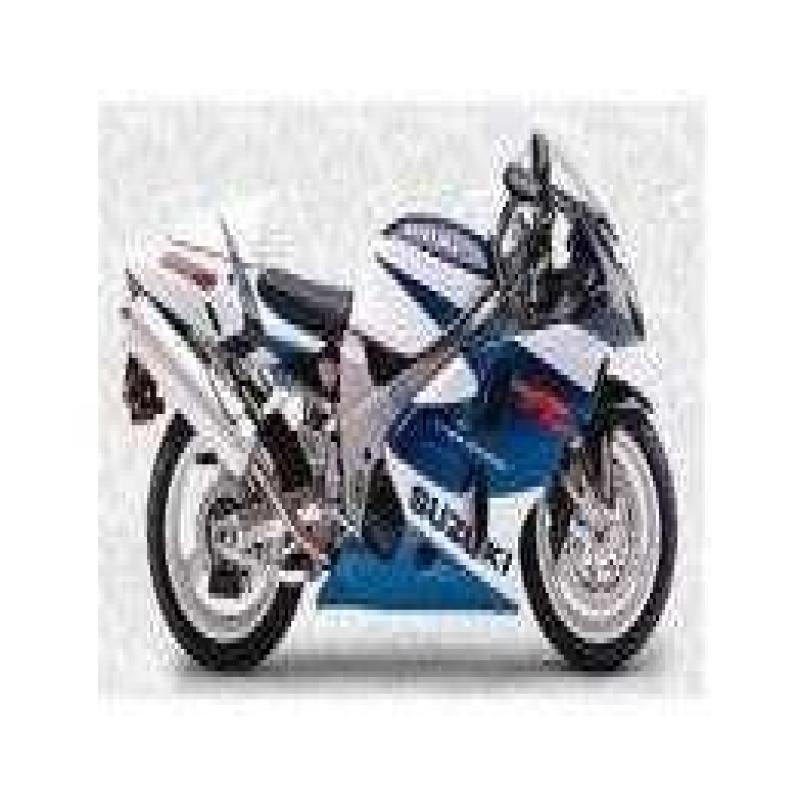bike: (92, 126, 705, 707)
